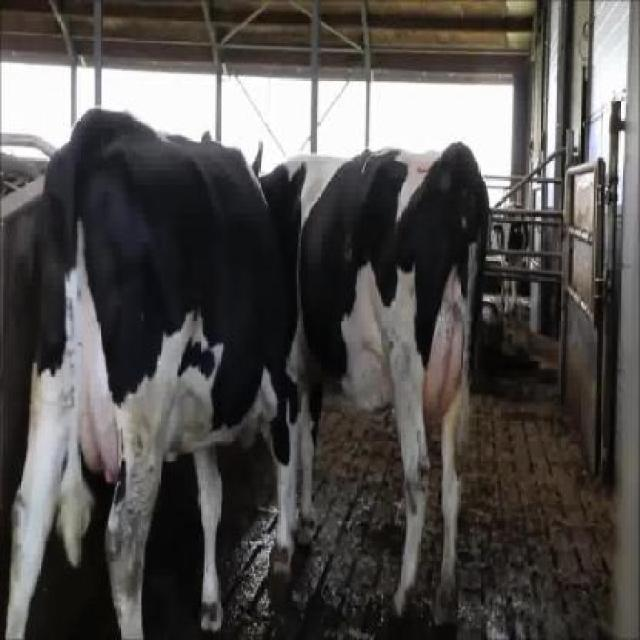Cow: (5, 104, 300, 638), (248, 137, 489, 638)
